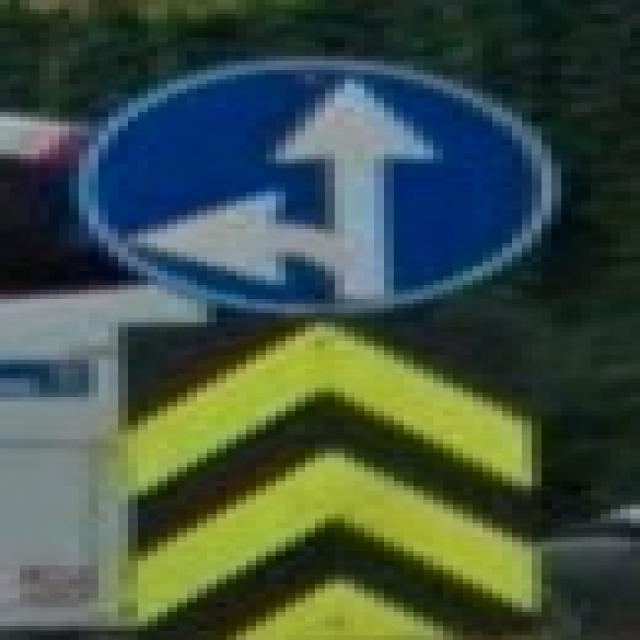Straight or Left: (75, 62, 557, 314)
